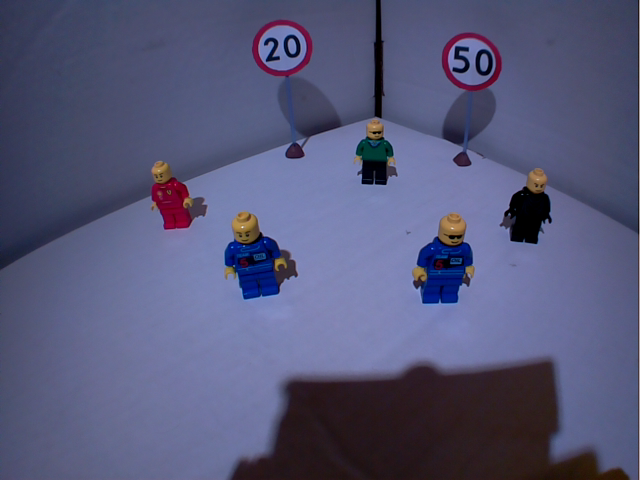Ograniczenie 20: (248, 15, 316, 80)
Ograniczenie 50: (438, 30, 507, 95)
Postac LEGO: (219, 205, 295, 306), (407, 210, 482, 312), (499, 163, 557, 250), (145, 153, 202, 235), (350, 113, 401, 190)
